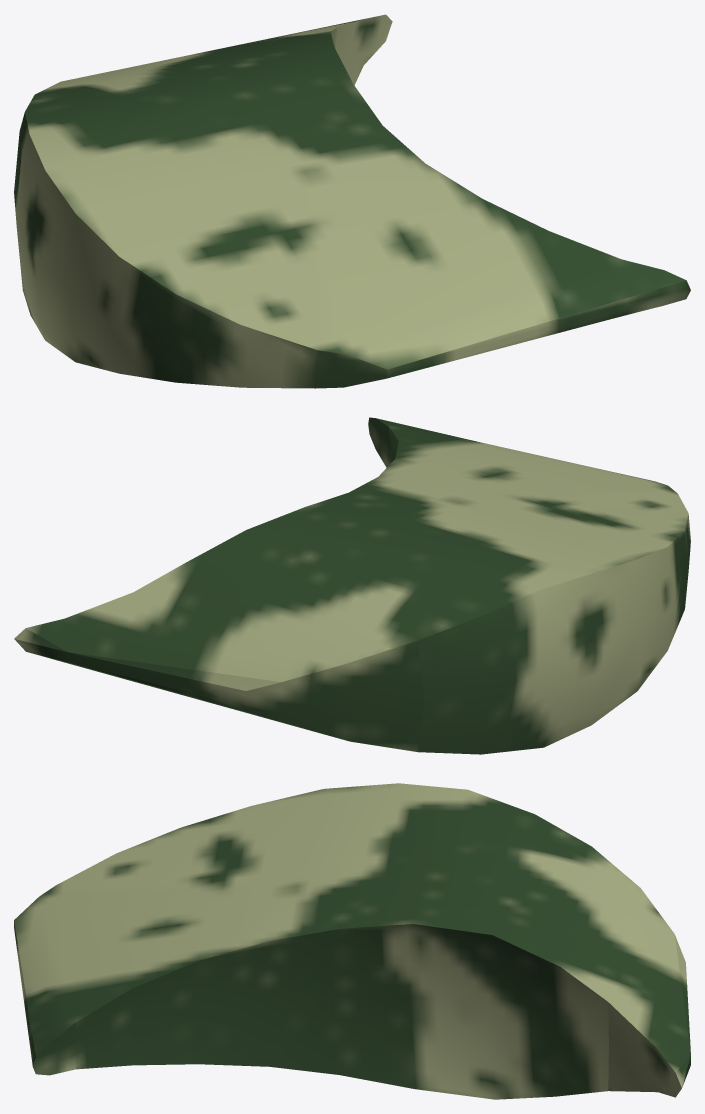
The model's file is link_body_35_composite.obj.
The picture shows the model from 3 angles, top to bottom: view 1: azimuth 30°, elevation 25°; view 2: azimuth 150°, elevation 25°; view 3: azimuth 270°, elevation 25°; orthographic projection. The views are drawn at different scales.
Visible parts, largest first — view 1: link_body_35; view 2: link_body_35; view 3: link_body_35.
Boxes of the visible parts, x1=… form: link_body_35: x1=14, y1=14, x2=690, y2=388; link_body_35: x1=14, y1=417, x2=690, y2=754; link_body_35: x1=14, y1=783, x2=690, y2=1099.
Bounding box in the file's own units: 6.41 × 2.21 × 7.81.
Materials: 1 (1 with a texture image).
